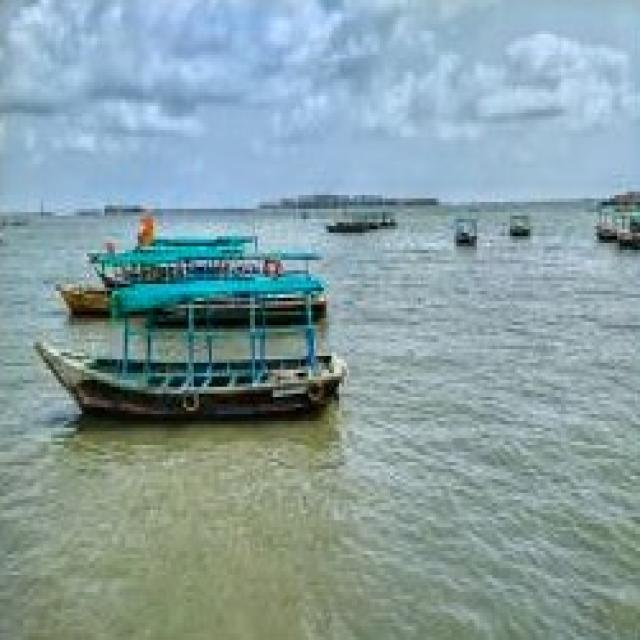fishing boat: (41, 270, 338, 430), (46, 188, 314, 317), (442, 206, 484, 266), (506, 204, 540, 258)
